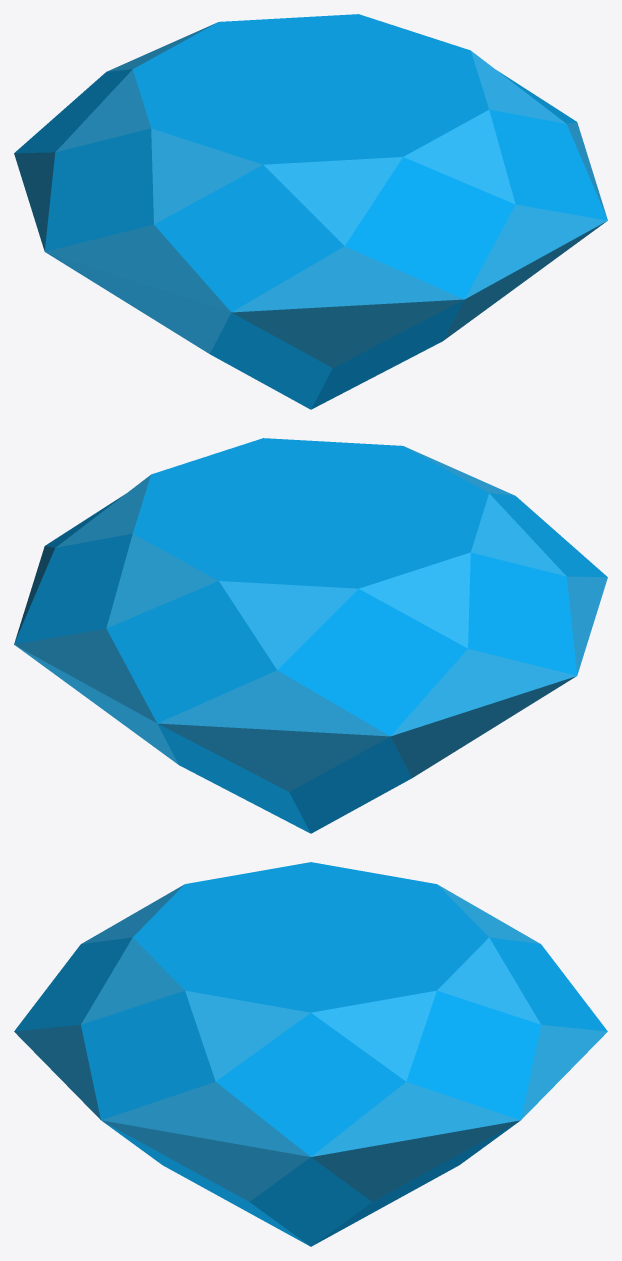
The model's file is gem_stone.gltf.
The picture shows the model from 3 angles, top to bottom: view 1: azimuth 30°, elevation 25°; view 2: azimuth 150°, elevation 25°; view 3: azimuth 270°, elevation 25°; orthographic projection. The views are drawn at different scales.
Parts seen in each view (by area): view 1: Gem.001; view 2: Gem.001; view 3: Gem.001.
Boxes of the visible parts, x1,y1,x2,y2 form: Gem.001: (14, 14, 607, 409); Gem.001: (14, 438, 607, 833); Gem.001: (14, 862, 607, 1246).
Bounding box in the file's own units: 2.4 × 1.38 × 2.4.
1 material, 1 textured.
